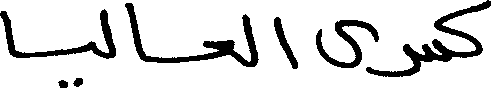ا: (271, 15, 298, 70), (122, 0, 146, 61), (0, 9, 16, 59)
ر: (385, 41, 416, 77)
ع: (201, 37, 234, 60)
ك: (449, 0, 489, 61)
ل: (240, 11, 258, 67), (99, 7, 115, 60)
ى: (315, 18, 378, 77)
ي: (56, 39, 96, 87)
